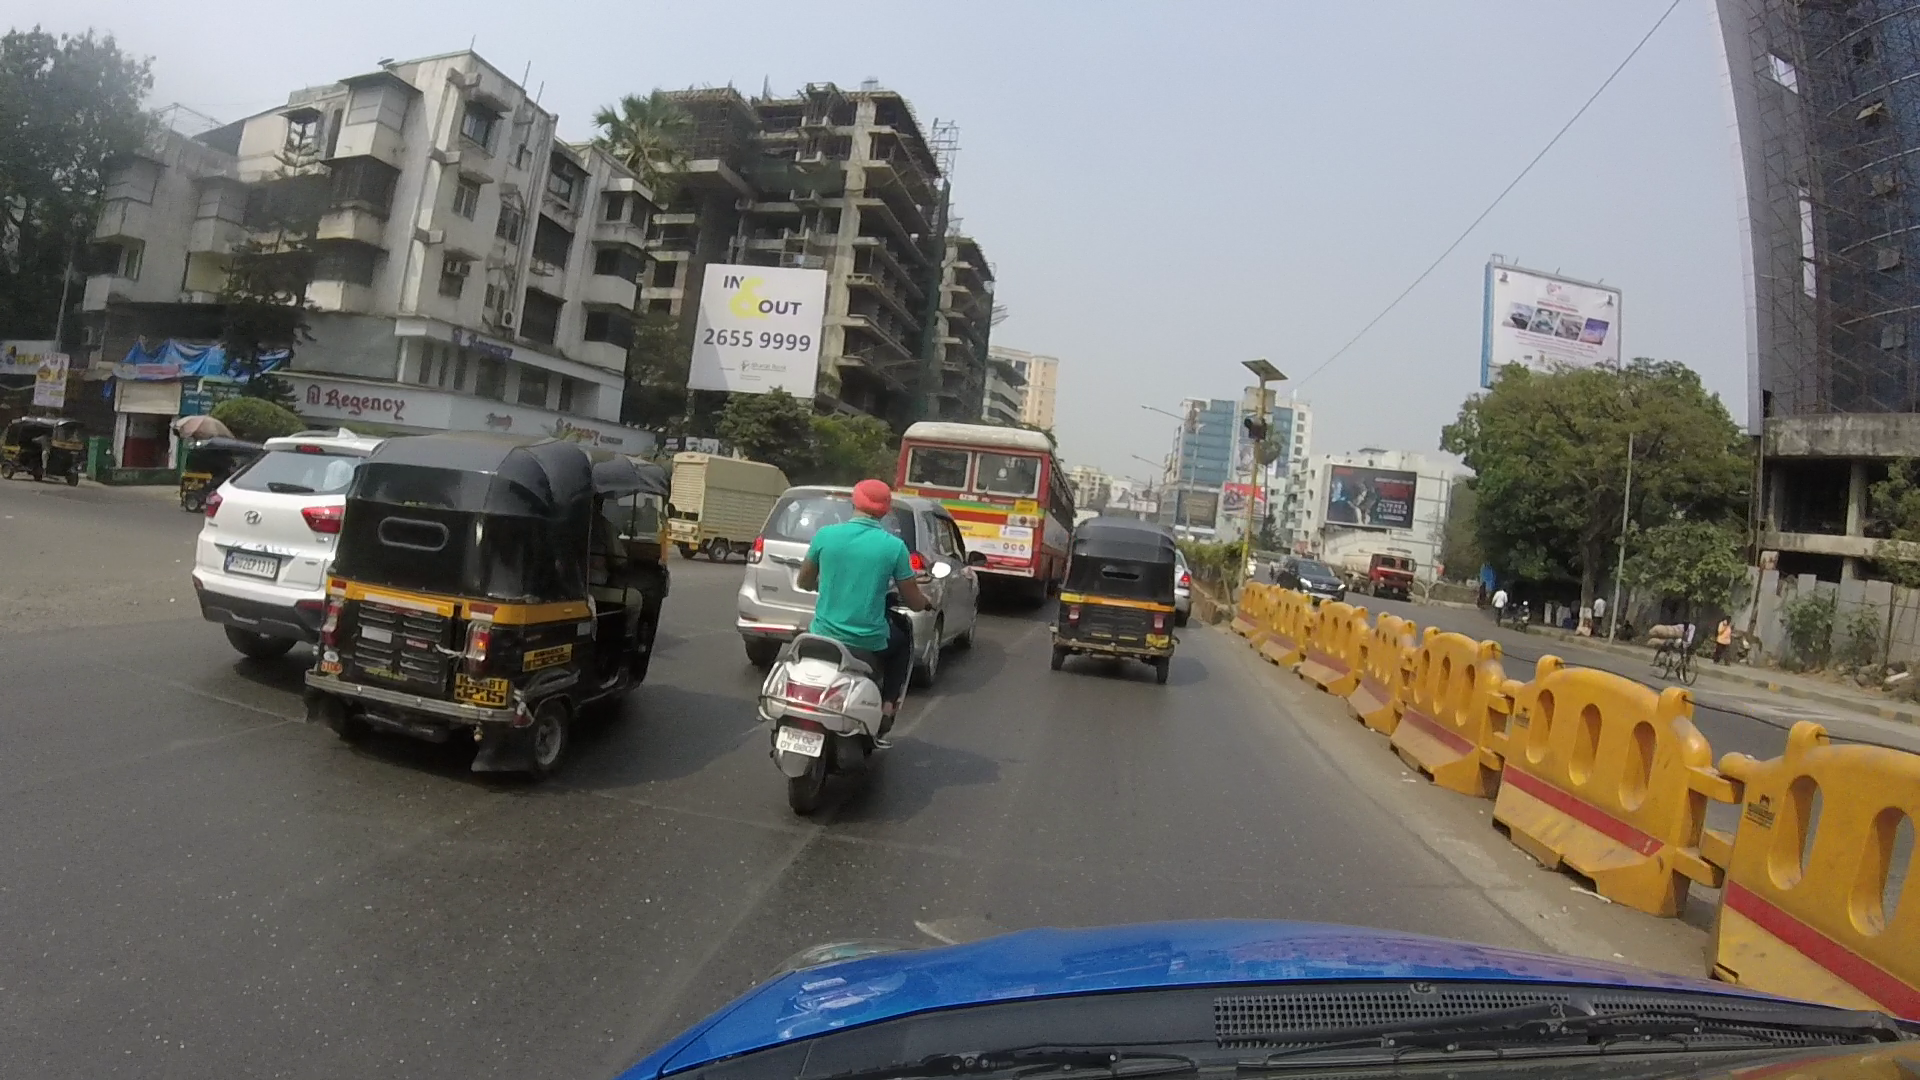bike/scooter: (758, 463, 924, 810)
bus: (899, 419, 1069, 595)
car: (190, 436, 402, 657), (728, 469, 963, 651)
rickshaw: (313, 422, 673, 771), (1055, 520, 1199, 680), (175, 433, 255, 512)
truck: (651, 444, 771, 549)
